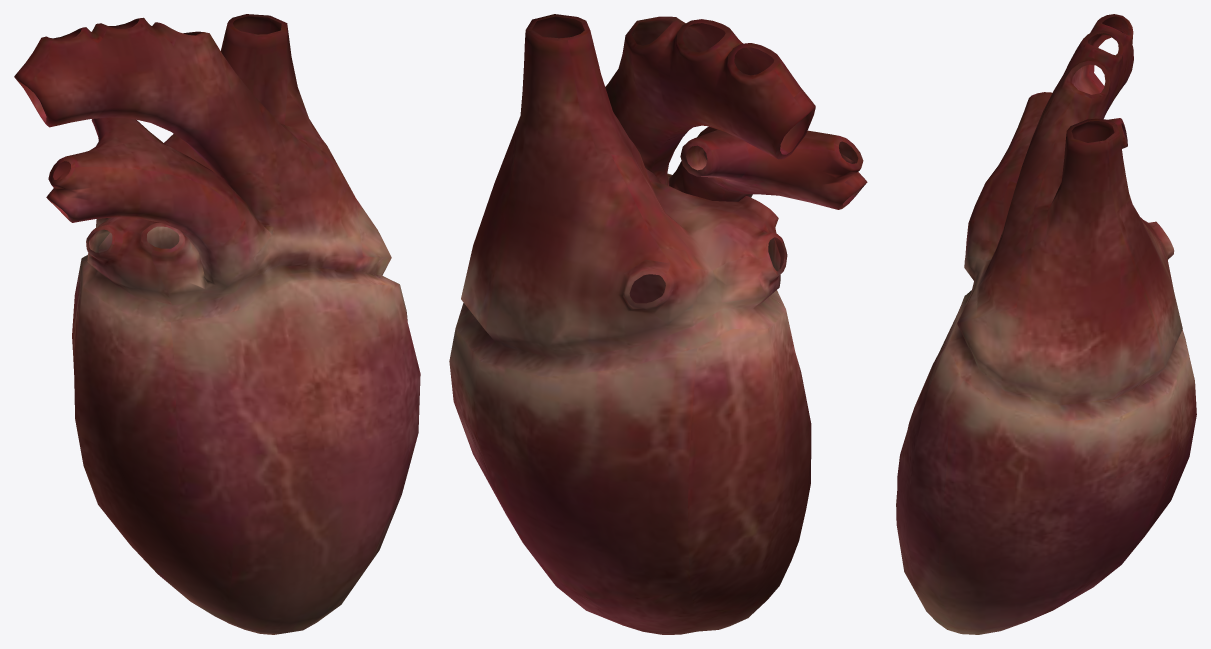
Rendered from healthyHeart.glb.
The picture shows the model from 3 angles, left to right: view 1: azimuth 30°, elevation 25°; view 2: azimuth 150°, elevation 25°; view 3: azimuth 270°, elevation 25°; orthographic projection. The views are drawn at different scales.
Parts seen in each view (by area): view 1: Heart; view 2: Heart; view 3: Heart.
Part boxes in pixels (x1,y1,x2,y2): Heart: [14, 14, 420, 634]; Heart: [449, 14, 867, 634]; Heart: [896, 14, 1196, 634].
Bounding box in the file's own units: 168 × 275 × 137.
1 material, 1 textured.
